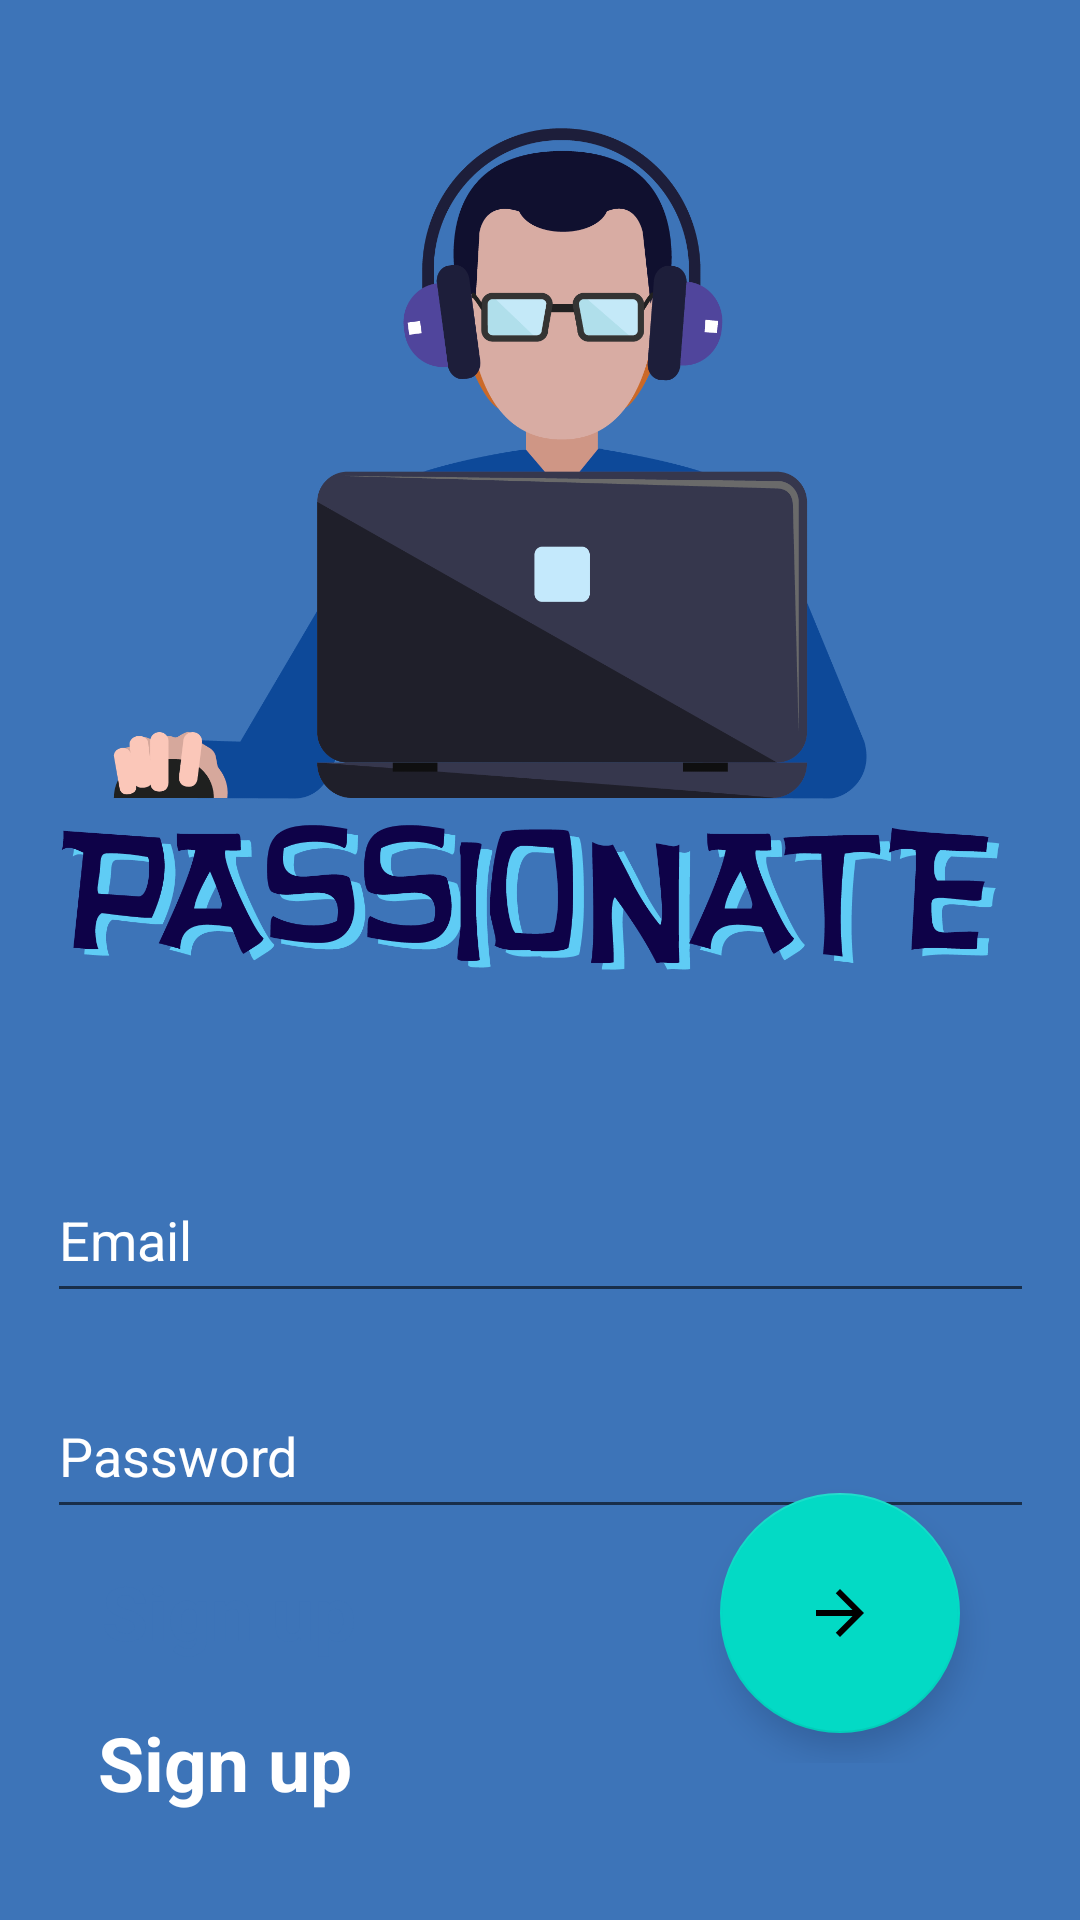

Icons on this 1080x1920 Android screen, each with its box as {"x1": x1, "y1": y1, "x2": x2, "y2": y2}:
arrow: {"x1": 720, "y1": 1493, "x2": 960, "y2": 1733}
